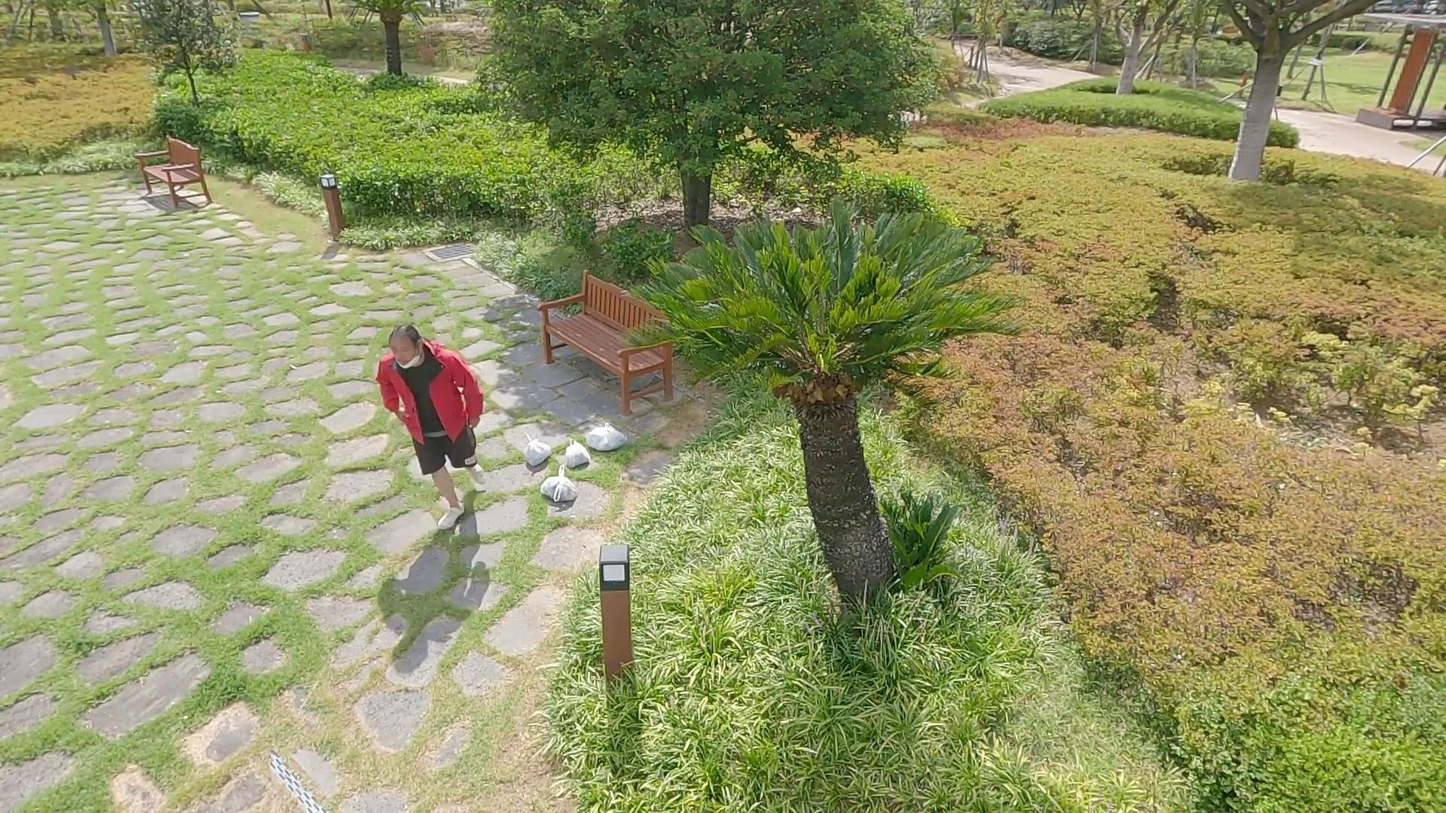person: (376, 323, 490, 532)
trash: (541, 464, 577, 506), (586, 420, 628, 452), (523, 435, 552, 468), (564, 437, 592, 468)
